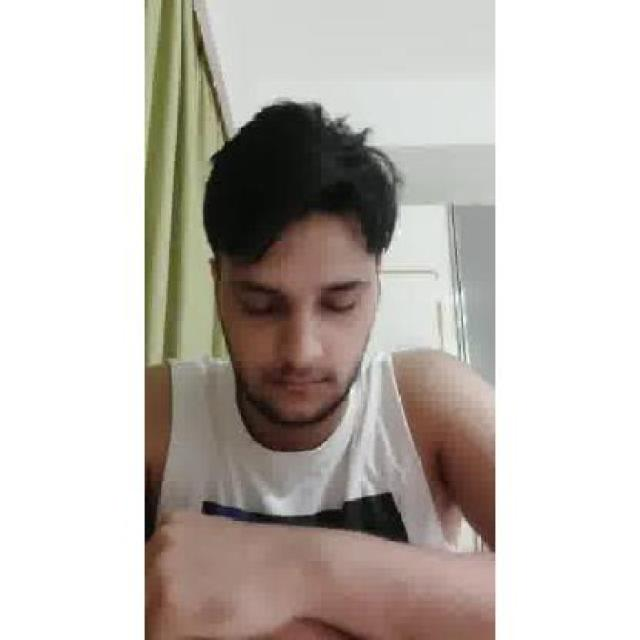inattentif: (207, 97, 384, 426)
